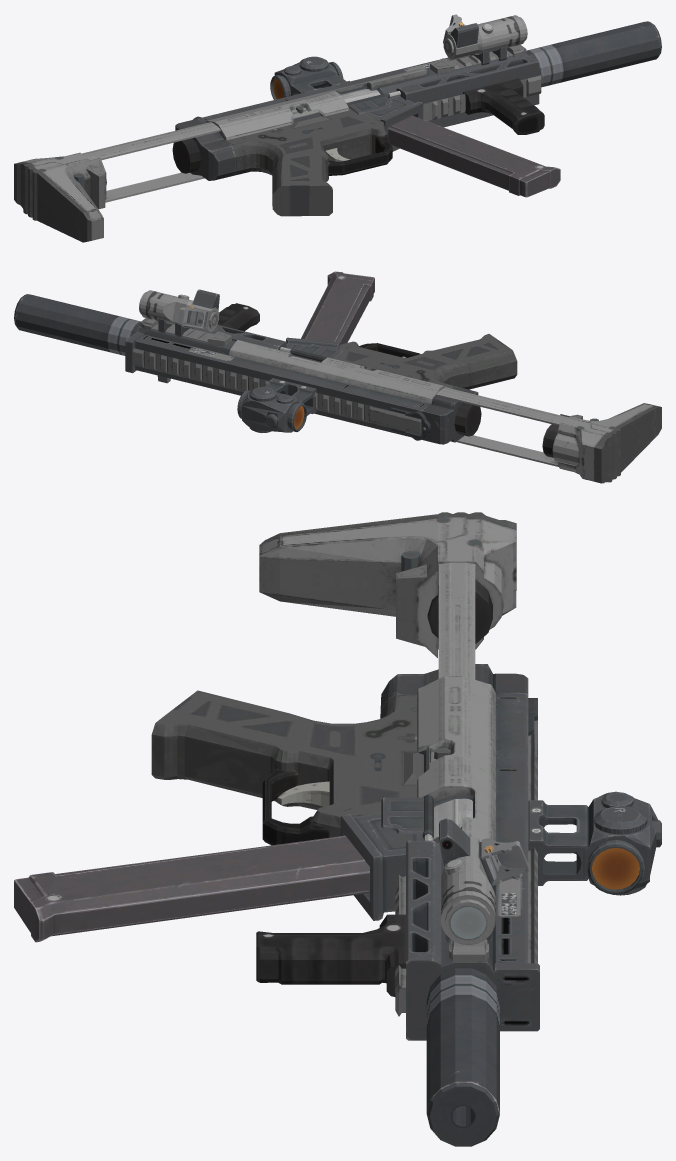
3 renders of one model, top to bottom at view 1: azimuth 30°, elevation 25°; view 2: azimuth 150°, elevation 25°; view 3: azimuth 270°, elevation 25°, orthographic. The views are drawn at different scales.
Visible parts, largest first — view 1: wp01b_a001a_sm.mo, wp01b_magazine001a_sm.mo, wp01b_muzzle001a_sm.mo, wp01b_attach001a_sm.mo, wp01b_scope001a_sm.mo; view 2: wp01b_a001a_sm.mo, wp01b_muzzle001a_sm.mo, wp01b_magazine001a_sm.mo, wp01b_scope001a_sm.mo, wp01b_attach001a_sm.mo; view 3: wp01b_a001a_sm.mo, wp01b_magazine001a_sm.mo, wp01b_muzzle001a_sm.mo, wp01b_scope001a_sm.mo, wp01b_attach001a_sm.mo.
Boxes of the visible parts, x1,y1,x2,y2 form: wp01b_a001a_sm.mo: (14, 44, 544, 242); wp01b_magazine001a_sm.mo: (388, 115, 560, 197); wp01b_muzzle001a_sm.mo: (526, 21, 661, 87); wp01b_attach001a_sm.mo: (443, 14, 527, 65); wp01b_scope001a_sm.mo: (270, 56, 349, 99); wp01b_a001a_sm.mo: (125, 303, 661, 483); wp01b_muzzle001a_sm.mo: (14, 294, 140, 355); wp01b_magazine001a_sm.mo: (301, 271, 374, 344); wp01b_scope001a_sm.mo: (237, 378, 316, 432); wp01b_attach001a_sm.mo: (139, 289, 219, 337); wp01b_a001a_sm.mo: (151, 512, 539, 1040); wp01b_magazine001a_sm.mo: (14, 835, 369, 942); wp01b_muzzle001a_sm.mo: (426, 968, 499, 1146); wp01b_scope001a_sm.mo: (528, 791, 661, 895); wp01b_attach001a_sm.mo: (439, 818, 529, 944).
Bounding box in the file's own units: 0.583 × 0.0815 × 0.2851.
5 materials, 5 textured.
